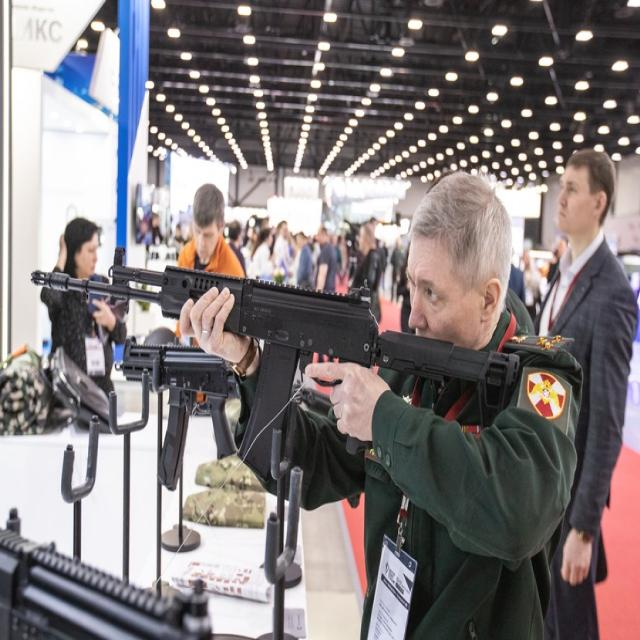firearm: (31, 259, 516, 478), (0, 506, 209, 640), (115, 334, 241, 490)
